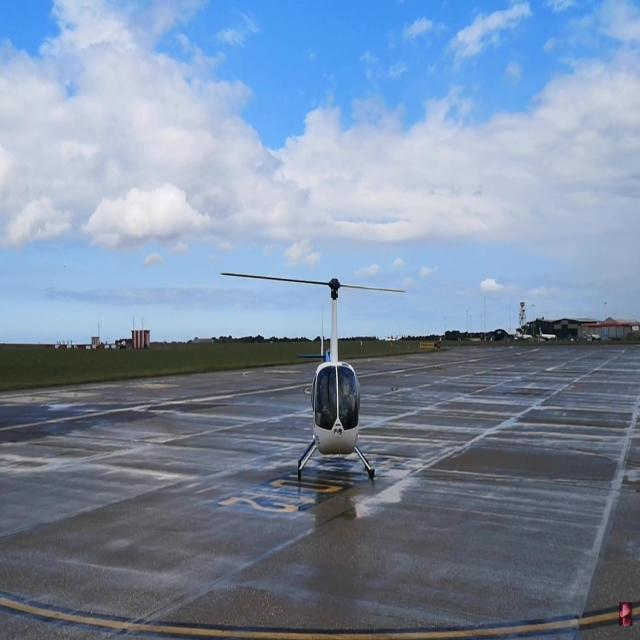CIV_HELO: (297, 276, 377, 483)
